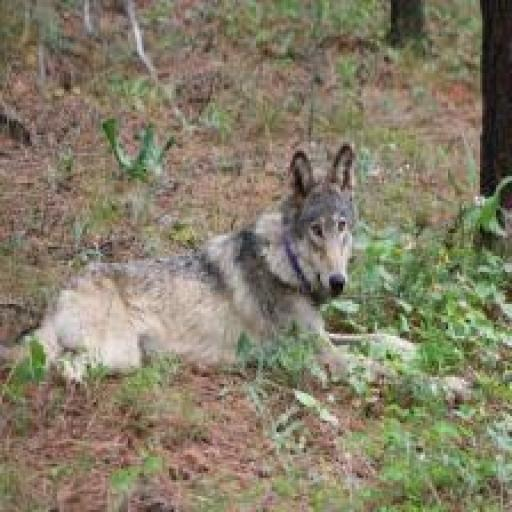wolf: (0, 125, 475, 432)
